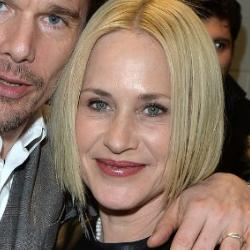face: (57, 2, 231, 222), (1, 1, 85, 157)
